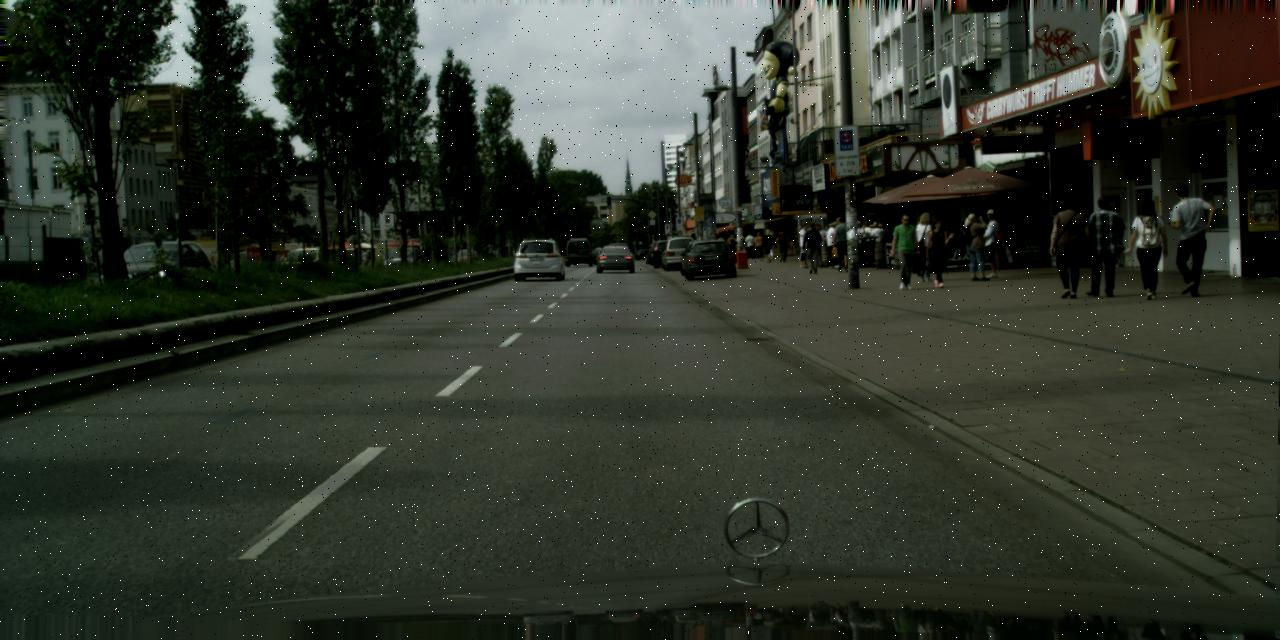ped: (1164, 184, 1208, 293), (1128, 198, 1170, 298), (1083, 196, 1123, 296), (1051, 197, 1091, 296), (890, 213, 921, 289), (976, 208, 1006, 278), (910, 211, 939, 282), (924, 218, 952, 287), (962, 212, 989, 280), (830, 216, 852, 272), (802, 222, 822, 273), (824, 220, 844, 268), (1012, 208, 1030, 253), (858, 219, 886, 243), (883, 223, 899, 261), (812, 223, 827, 258), (945, 215, 963, 244), (810, 230, 824, 266), (820, 225, 834, 257), (776, 227, 789, 261), (761, 229, 774, 261), (799, 223, 808, 259), (744, 230, 755, 258), (765, 232, 776, 260), (754, 231, 764, 257), (359, 248, 369, 272), (726, 234, 736, 252), (280, 252, 286, 267), (798, 260, 808, 268), (787, 234, 793, 243), (774, 234, 778, 243), (744, 238, 746, 250), (762, 235, 764, 236), (748, 258, 749, 259)
